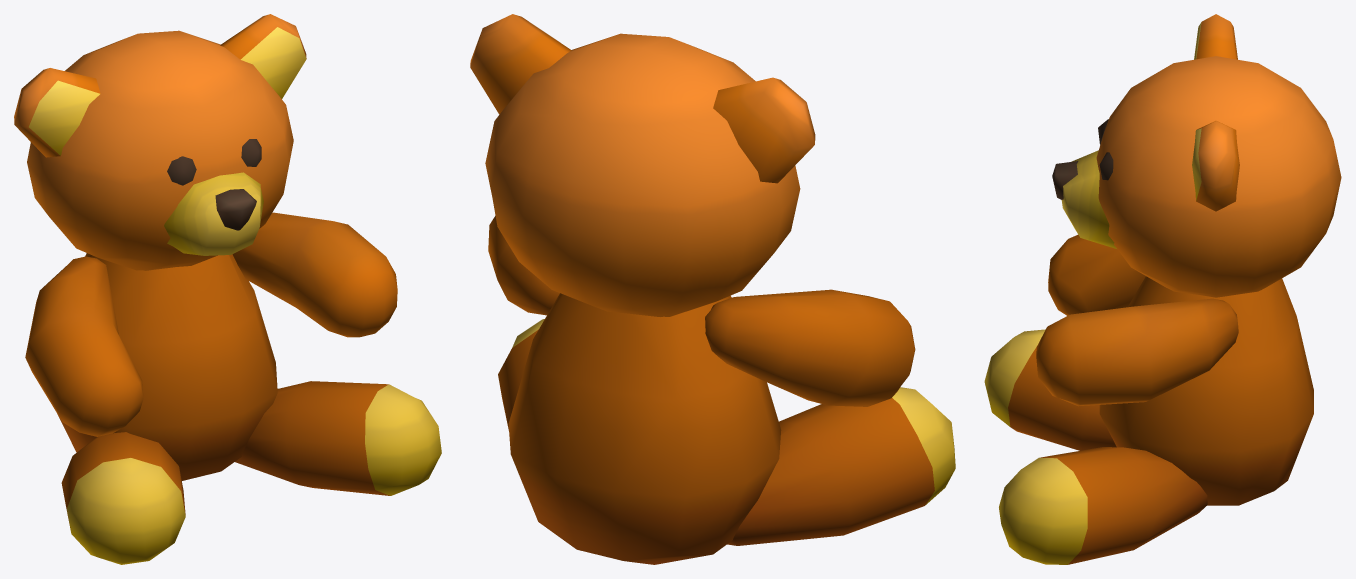
File: TeddyBear.fbx
The picture shows the model from 3 angles, left to right: view 1: azimuth 30°, elevation 25°; view 2: azimuth 150°, elevation 25°; view 3: azimuth 270°, elevation 25°; orthographic projection. The views are drawn at different scales.
Visible parts, largest first — view 1: TeddyBear; view 2: TeddyBear; view 3: TeddyBear.
Part boxes in pixels (bbox=[...]): TeddyBear: bbox=[14, 14, 441, 564]; TeddyBear: bbox=[470, 14, 955, 564]; TeddyBear: bbox=[984, 14, 1341, 564].
Size of the model in its own units: 36.49 by 41.08 by 31.23.
1 material, 1 textured.
